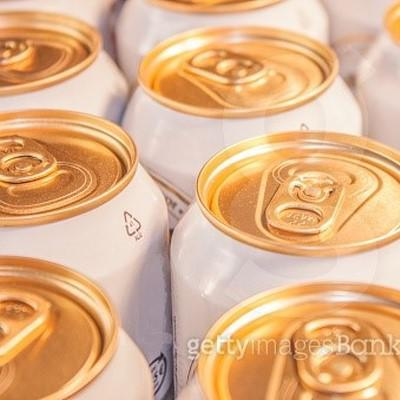beer: (1, 10, 400, 396)
